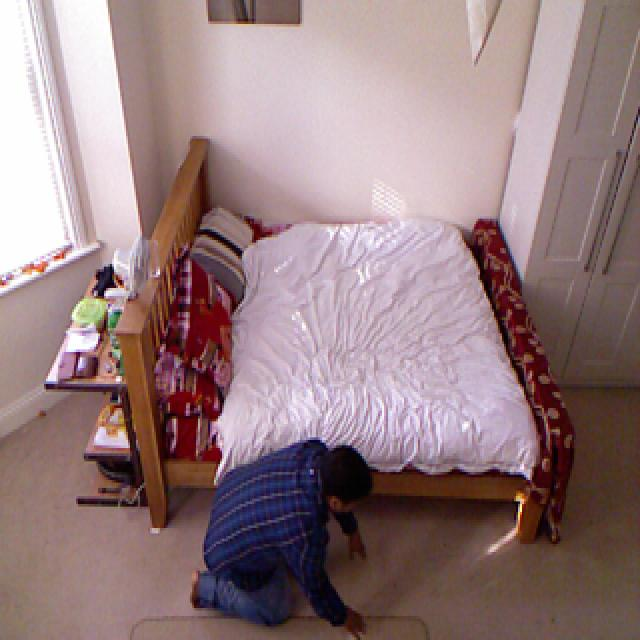crawling: (175, 382, 420, 640)
